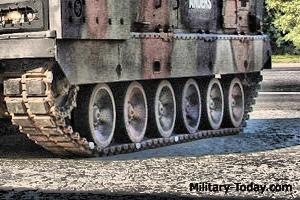tanks: (1, 1, 272, 157)
